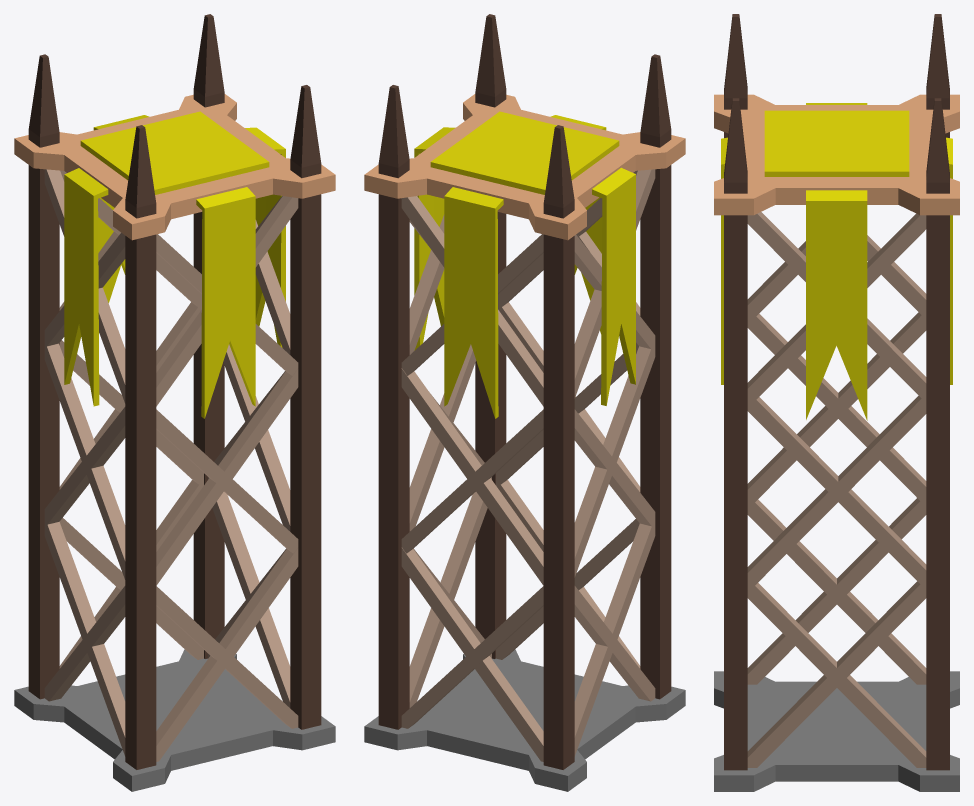
File: SpectatorTower.fbx
The picture shows the model from 3 angles, left to right: view 1: azimuth 30°, elevation 25°; view 2: azimuth 150°, elevation 25°; view 3: azimuth 270°, elevation 25°; orthographic projection. The views are drawn at different scales.
Parts seen in each view (by area): view 1: Stick, Support.001, Support, Platform, Flag, Platform.001, Flag.001, Plane.001; view 2: Stick, Support.001, Support, Platform, Platform.001, Flag, Flag.001, Plane.001; view 3: Support, Stick, Platform, Flag.001, Platform.001, Plane.001, Flag.
Boxes of the visible parts, bbox=[...] form: Stick: bbox=[28, 14, 321, 769]; Support.001: bbox=[59, 170, 298, 761]; Support: bbox=[44, 169, 290, 756]; Platform: bbox=[14, 649, 335, 791]; Flag: bbox=[93, 115, 255, 418]; Platform.001: bbox=[14, 94, 335, 240]; Flag.001: bbox=[64, 127, 285, 406]; Plane.001: bbox=[80, 111, 269, 194]; Stick: bbox=[378, 14, 671, 769]; Support.001: bbox=[401, 170, 640, 761]; Support: bbox=[409, 169, 655, 756]; Platform: bbox=[364, 649, 685, 791]; Platform.001: bbox=[364, 94, 685, 240]; Flag: bbox=[444, 115, 606, 418]; Flag.001: bbox=[414, 127, 635, 405]; Plane.001: bbox=[430, 111, 619, 194]; Support: bbox=[747, 212, 926, 767]; Stick: bbox=[724, 14, 949, 770]; Platform: bbox=[714, 671, 959, 791]; Flag.001: bbox=[806, 103, 867, 420]; Platform.001: bbox=[714, 94, 959, 215]; Plane.001: bbox=[764, 110, 909, 176]; Flag: bbox=[721, 137, 952, 384].
Size of the model in its own units: 800 by 2451 by 800.
